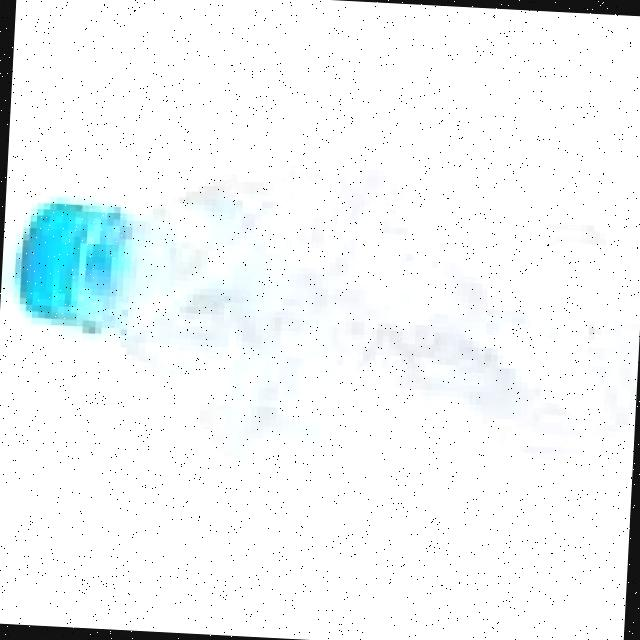bottle: (5, 108, 640, 511)
cap: (9, 172, 128, 342)
